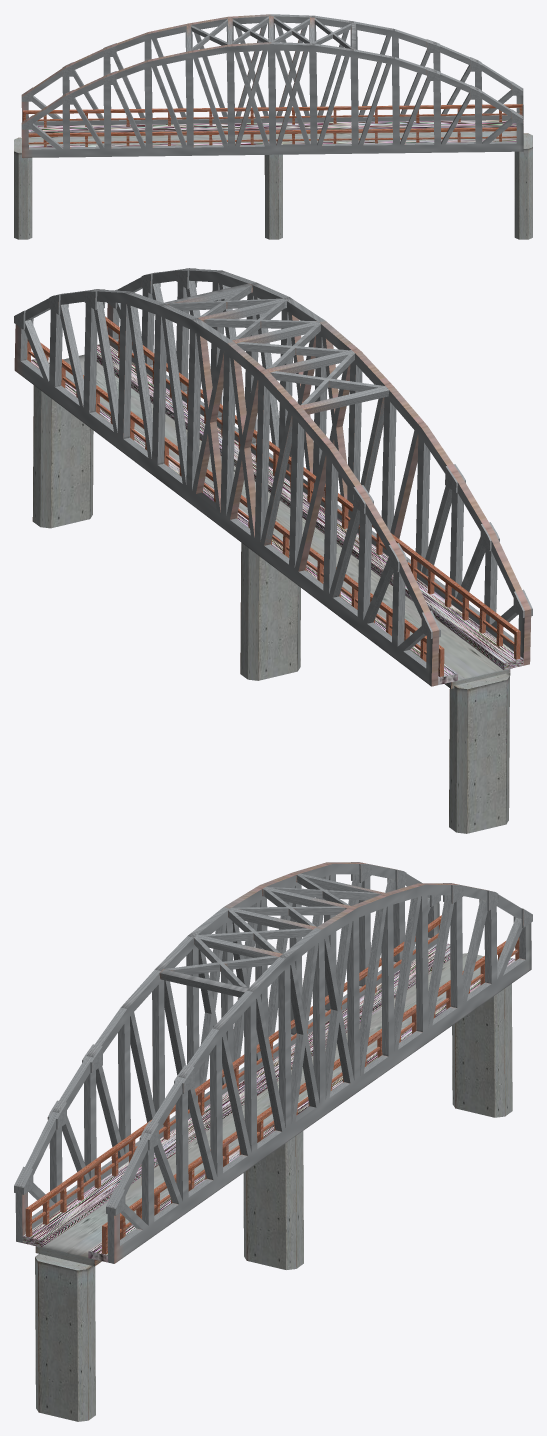
The model's file is GMLID_BUI30683_572_6686.dae.
3 renders of one model, top to bottom at view 1: azimuth 30°, elevation 25°; view 2: azimuth 150°, elevation 25°; view 3: azimuth 270°, elevation 25°, orthographic. The views are drawn at different scales.
Size of the model in its own units: 61.81 by 41.08 by 29.7.
1 material, 1 textured.
